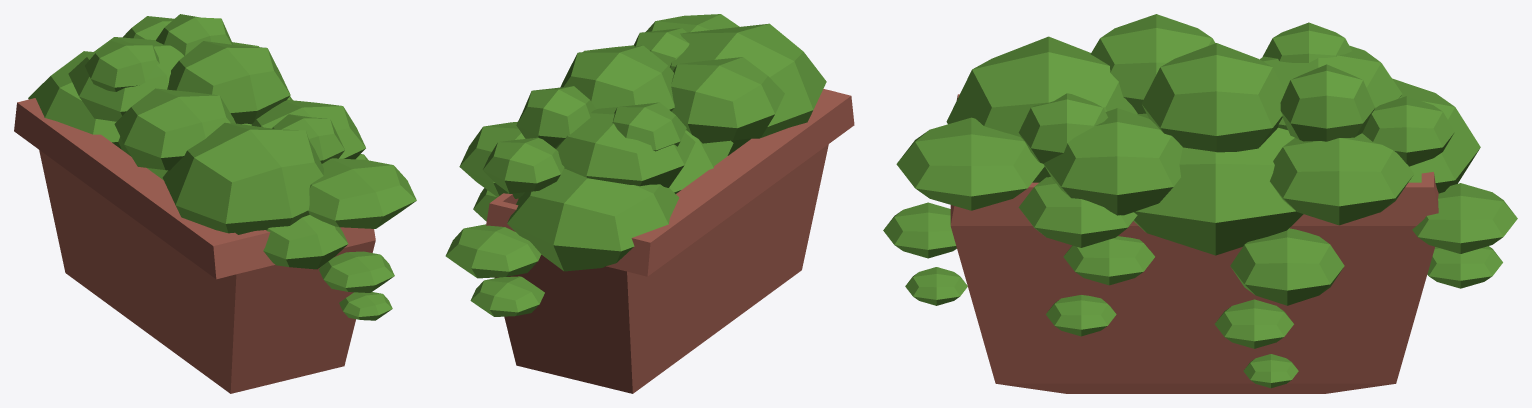
The model's file is window plant thinleaves .fbx.
The picture shows the model from 3 angles, left to right: view 1: azimuth 30°, elevation 25°; view 2: azimuth 150°, elevation 25°; view 3: azimuth 270°, elevation 25°; orthographic projection. The views are drawn at different scales.
Parts seen in each view (by area): view 1: Pot1.002, Leaf3.002, Leaf18, Leaf13.002, Leaf1.002, Leaf23, Leaf.002, Leaf6.002, Leaf12.002, Leaf16.002, Leaf22, Leaf11.002 (+3 smaller); view 2: Pot1.002, Leaf6.002, Leaf13.002, Leaf3.002, Leaf23, Leaf18, Leaf8.002, Leaf7.002, Leaf11.002, Leaf12.002, Leaf21, Leaf9.002 (+4 smaller); view 3: Pot1.002, Leaf5.002, Leaf18, Leaf3.002, Leaf22, Leaf9.002, Leaf1.002, Leaf14.002, Leaf13.002, Leaf11.002, Leaf8.002, Leaf2.002 (+12 smaller).
Part boxes in pixels (box(x1,y1,x2,y2)): Pot1.002: box(14, 98, 375, 393); Leaf3.002: box(162, 122, 323, 234); Leaf18: box(167, 41, 290, 124); Leaf13.002: box(114, 88, 235, 170); Leaf1.002: box(308, 158, 416, 228); Leaf23: box(68, 37, 183, 121); Leaf.002: box(263, 215, 348, 269); Leaf6.002: box(28, 51, 121, 149); Leaf12.002: box(85, 41, 159, 91); Leaf16.002: box(319, 251, 394, 292); Leaf22: box(251, 100, 365, 159); Leaf11.002: box(156, 14, 232, 55); Pot1.002: box(486, 89, 854, 393); Leaf6.002: box(507, 168, 679, 271); Leaf13.002: box(671, 57, 784, 143); Leaf3.002: box(670, 23, 826, 155); Leaf23: box(555, 107, 695, 187); Leaf18: box(560, 45, 674, 111); Leaf8.002: box(445, 224, 541, 278); Leaf7.002: box(483, 137, 564, 193); Leaf11.002: box(516, 86, 596, 147); Leaf12.002: box(612, 102, 686, 151); Leaf21: box(470, 276, 544, 316); Leaf9.002: box(459, 121, 525, 198); Pot1.002: box(950, 94, 1438, 393); Leaf5.002: box(1133, 113, 1303, 255); Leaf18: box(1141, 43, 1285, 152); Leaf3.002: box(946, 36, 1137, 182); Leaf22: box(1043, 108, 1182, 215); Leaf9.002: box(1270, 133, 1413, 225); Leaf1.002: box(896, 117, 1044, 210); Leaf14.002: box(1230, 228, 1344, 305); Leaf13.002: box(1090, 14, 1215, 113); Leaf11.002: box(1280, 64, 1374, 141); Leaf8.002: box(1412, 183, 1517, 253); Leaf2.002: box(1018, 176, 1137, 247).
Bounding box in the file's own units: 31.7 × 35.79 × 61.43.
